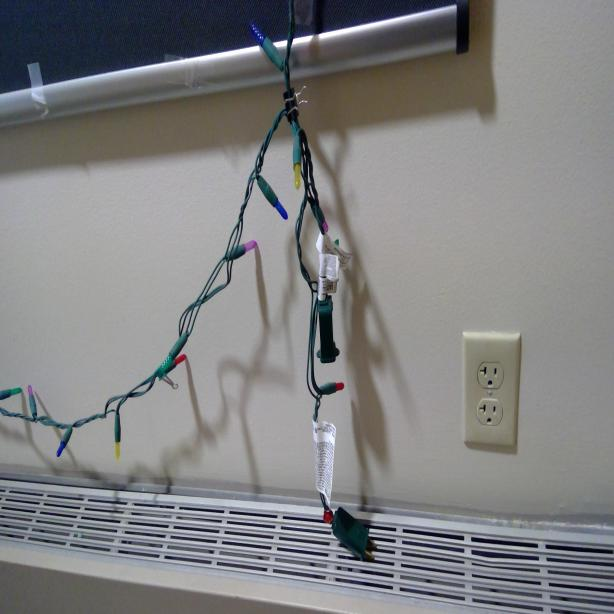typeb: (478, 357, 504, 392), (477, 400, 501, 428)
